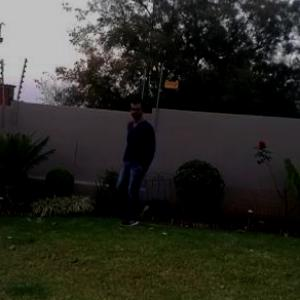follow: (117, 95, 167, 232)
